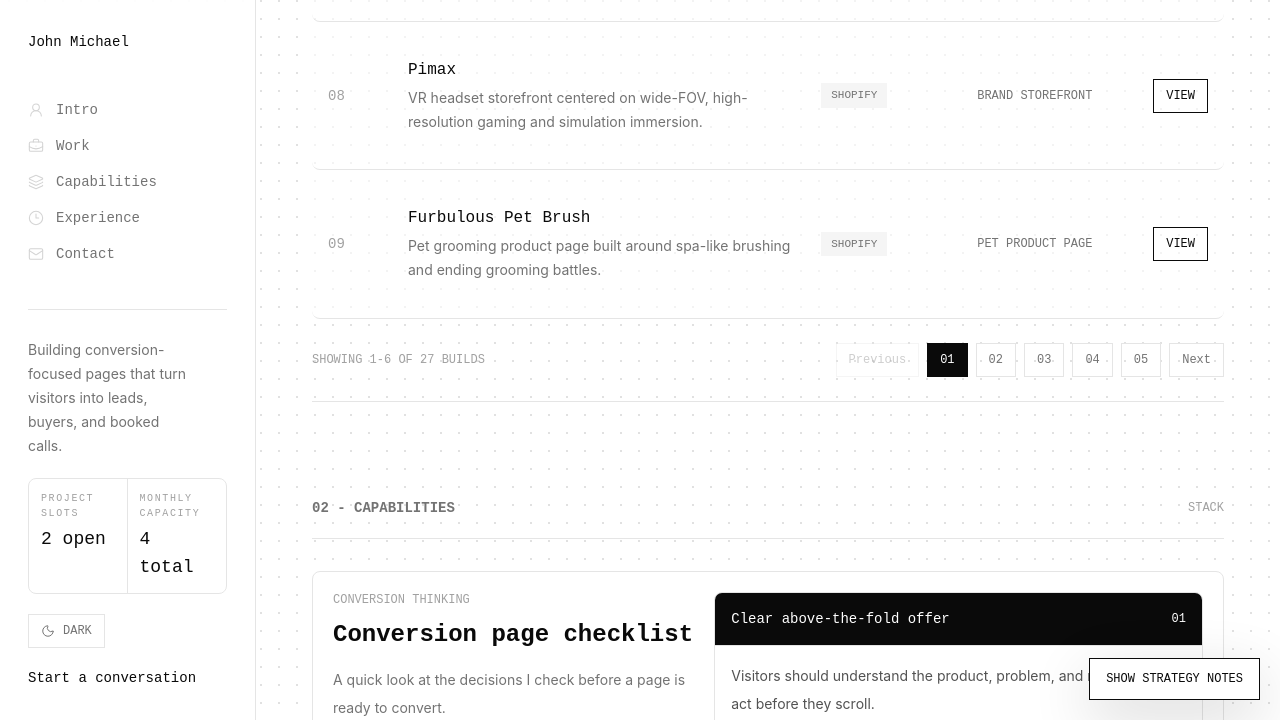
Test case: Portfolio landing page › structures selected work as featured projects plus a compact archive
This screenshot has width=1280, height=720.
(page scrolled)
Expected: the text "Showing 1-6 of 27 builds" is shown, [312,352,485,368]
Expected: the button with aria-label "previous archive page" is disabled, [836,343,919,377]
Click the button with aria-label "next archive page". click: (1197, 360)
box: [1169,343,1224,377]
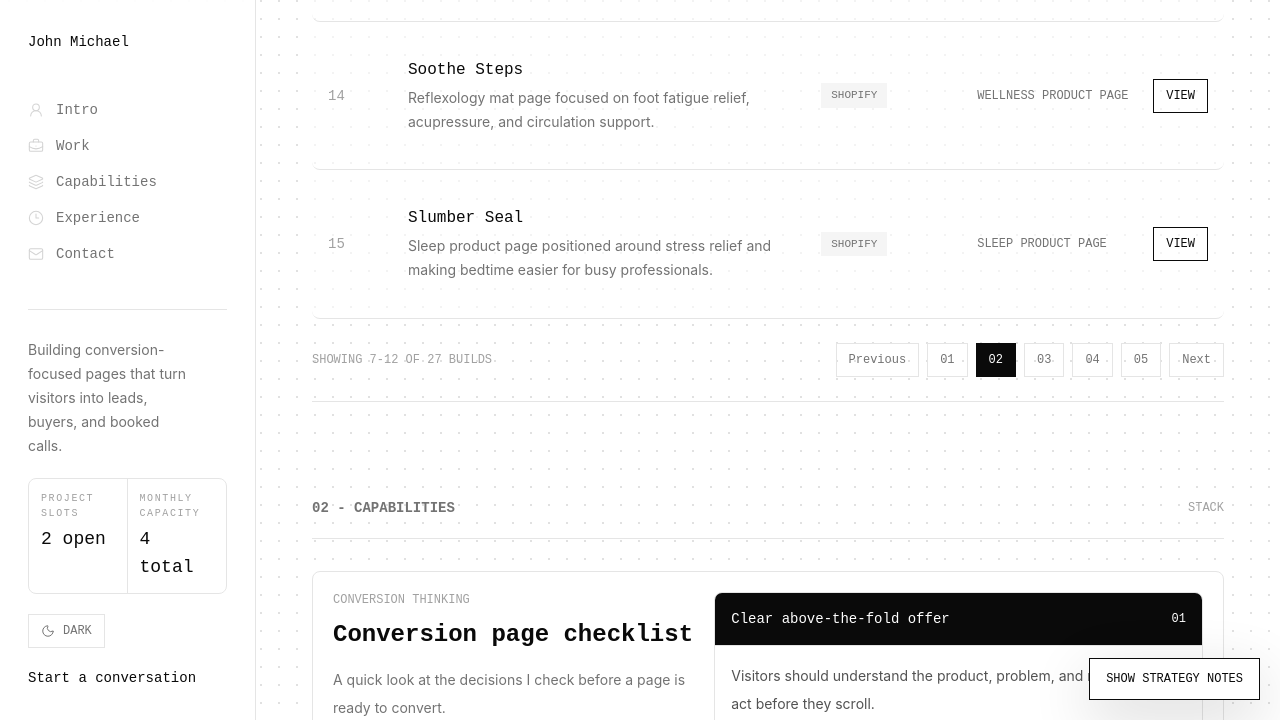
Result: the text "Showing 7-12 of 27 builds" is shown at [312,352,492,368]
Click the button named "archive page 5". click: (1141, 360)
box: [1121,343,1161,377]
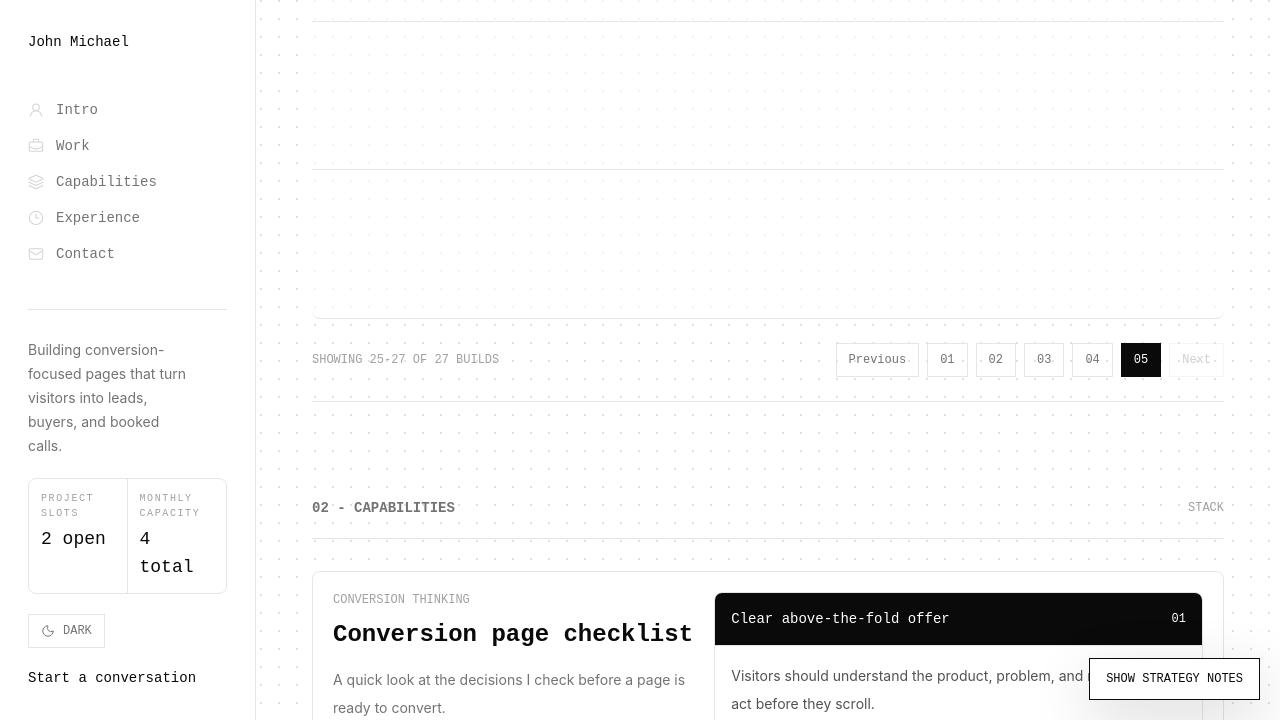
Result: the text "Showing 25-27 of 27 builds" is shown at [312,352,499,368]
Result: the button with aria-label "next archive page" is disabled at [1169,343,1224,377]
